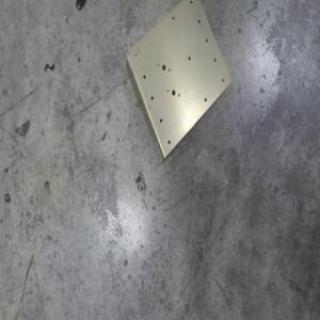MetalSheettrack_idkeyframe: (122, 0, 231, 166)
